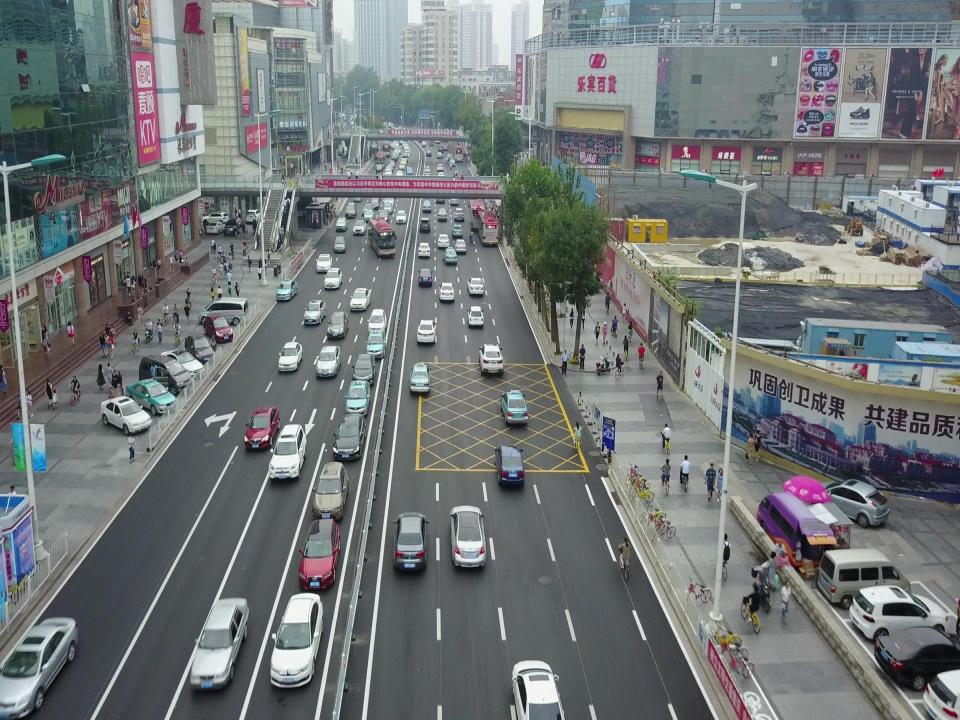bus: (367, 216, 397, 258), (476, 209, 499, 247), (467, 200, 488, 231), (374, 152, 386, 170), (382, 142, 390, 157), (440, 137, 448, 150)
car: (0, 614, 79, 720), (848, 583, 950, 646), (189, 596, 251, 693), (873, 624, 960, 692), (270, 591, 324, 691), (813, 477, 890, 529), (511, 658, 567, 720), (298, 518, 341, 591), (448, 505, 488, 568), (312, 460, 350, 523), (391, 511, 430, 572), (268, 424, 308, 483), (100, 395, 153, 436), (922, 666, 960, 720), (126, 377, 178, 416), (332, 412, 367, 462), (243, 406, 281, 452), (198, 297, 250, 326), (160, 349, 205, 380), (494, 443, 525, 488), (499, 389, 529, 427), (184, 333, 218, 365), (344, 380, 370, 418), (351, 353, 377, 388), (203, 314, 234, 343), (316, 345, 342, 379), (478, 343, 504, 377), (278, 342, 304, 374), (408, 362, 432, 394), (327, 311, 349, 340), (364, 331, 386, 360), (303, 299, 327, 325), (416, 318, 438, 345), (350, 288, 372, 312), (275, 279, 298, 301), (323, 267, 343, 290), (466, 306, 484, 330), (201, 211, 229, 225), (223, 216, 242, 236), (438, 281, 456, 302), (466, 276, 484, 296), (316, 253, 332, 274), (417, 267, 433, 287), (206, 220, 228, 234), (442, 246, 458, 265), (246, 208, 262, 225), (332, 236, 346, 254), (353, 219, 367, 236), (436, 233, 450, 250), (417, 242, 431, 259), (418, 217, 432, 233), (451, 222, 463, 239), (453, 239, 467, 253), (377, 209, 390, 224), (345, 202, 357, 218), (336, 216, 348, 232), (361, 203, 375, 216), (436, 207, 448, 222), (383, 194, 395, 208), (382, 201, 394, 215), (395, 210, 407, 224), (363, 209, 375, 223), (453, 207, 465, 221), (421, 199, 432, 213), (353, 191, 365, 202), (370, 198, 380, 211), (450, 194, 459, 206), (435, 194, 445, 204), (448, 158, 456, 167), (423, 170, 432, 178), (406, 167, 414, 176), (376, 164, 384, 173), (396, 170, 404, 179), (436, 164, 444, 172), (423, 165, 431, 173), (388, 160, 396, 168), (386, 164, 394, 172), (384, 168, 392, 176), (391, 153, 398, 162), (400, 157, 407, 166), (437, 146, 444, 154), (436, 152, 443, 160), (384, 166, 392, 173), (426, 149, 432, 157), (446, 152, 452, 160), (437, 172, 445, 178), (399, 162, 405, 170), (421, 141, 427, 147)
van: (756, 491, 838, 578), (817, 547, 912, 611), (138, 354, 194, 397), (367, 308, 387, 335), (428, 139, 434, 147)
